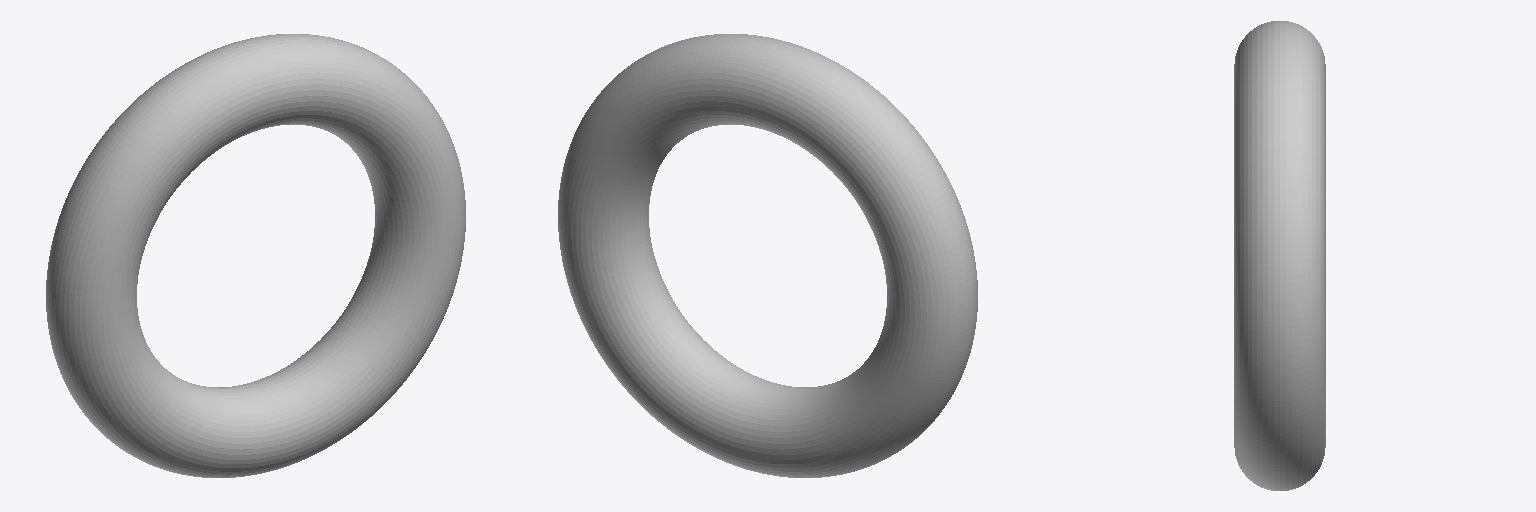
The model's file is torusMed.obj.
3 renders of one model, left to right at view 1: azimuth 30°, elevation 25°; view 2: azimuth 150°, elevation 25°; view 3: azimuth 270°, elevation 25°, orthographic.
Parts seen in each view (by area): view 1: Torus; view 2: Torus; view 3: Torus.
Boxes of the visible parts, x1,y1,x2,y2 form: Torus: [46, 34, 465, 477]; Torus: [558, 34, 977, 477]; Torus: [1234, 21, 1325, 490].
Size of the model in its own units: 2.47 by 2.47 by 0.4791.